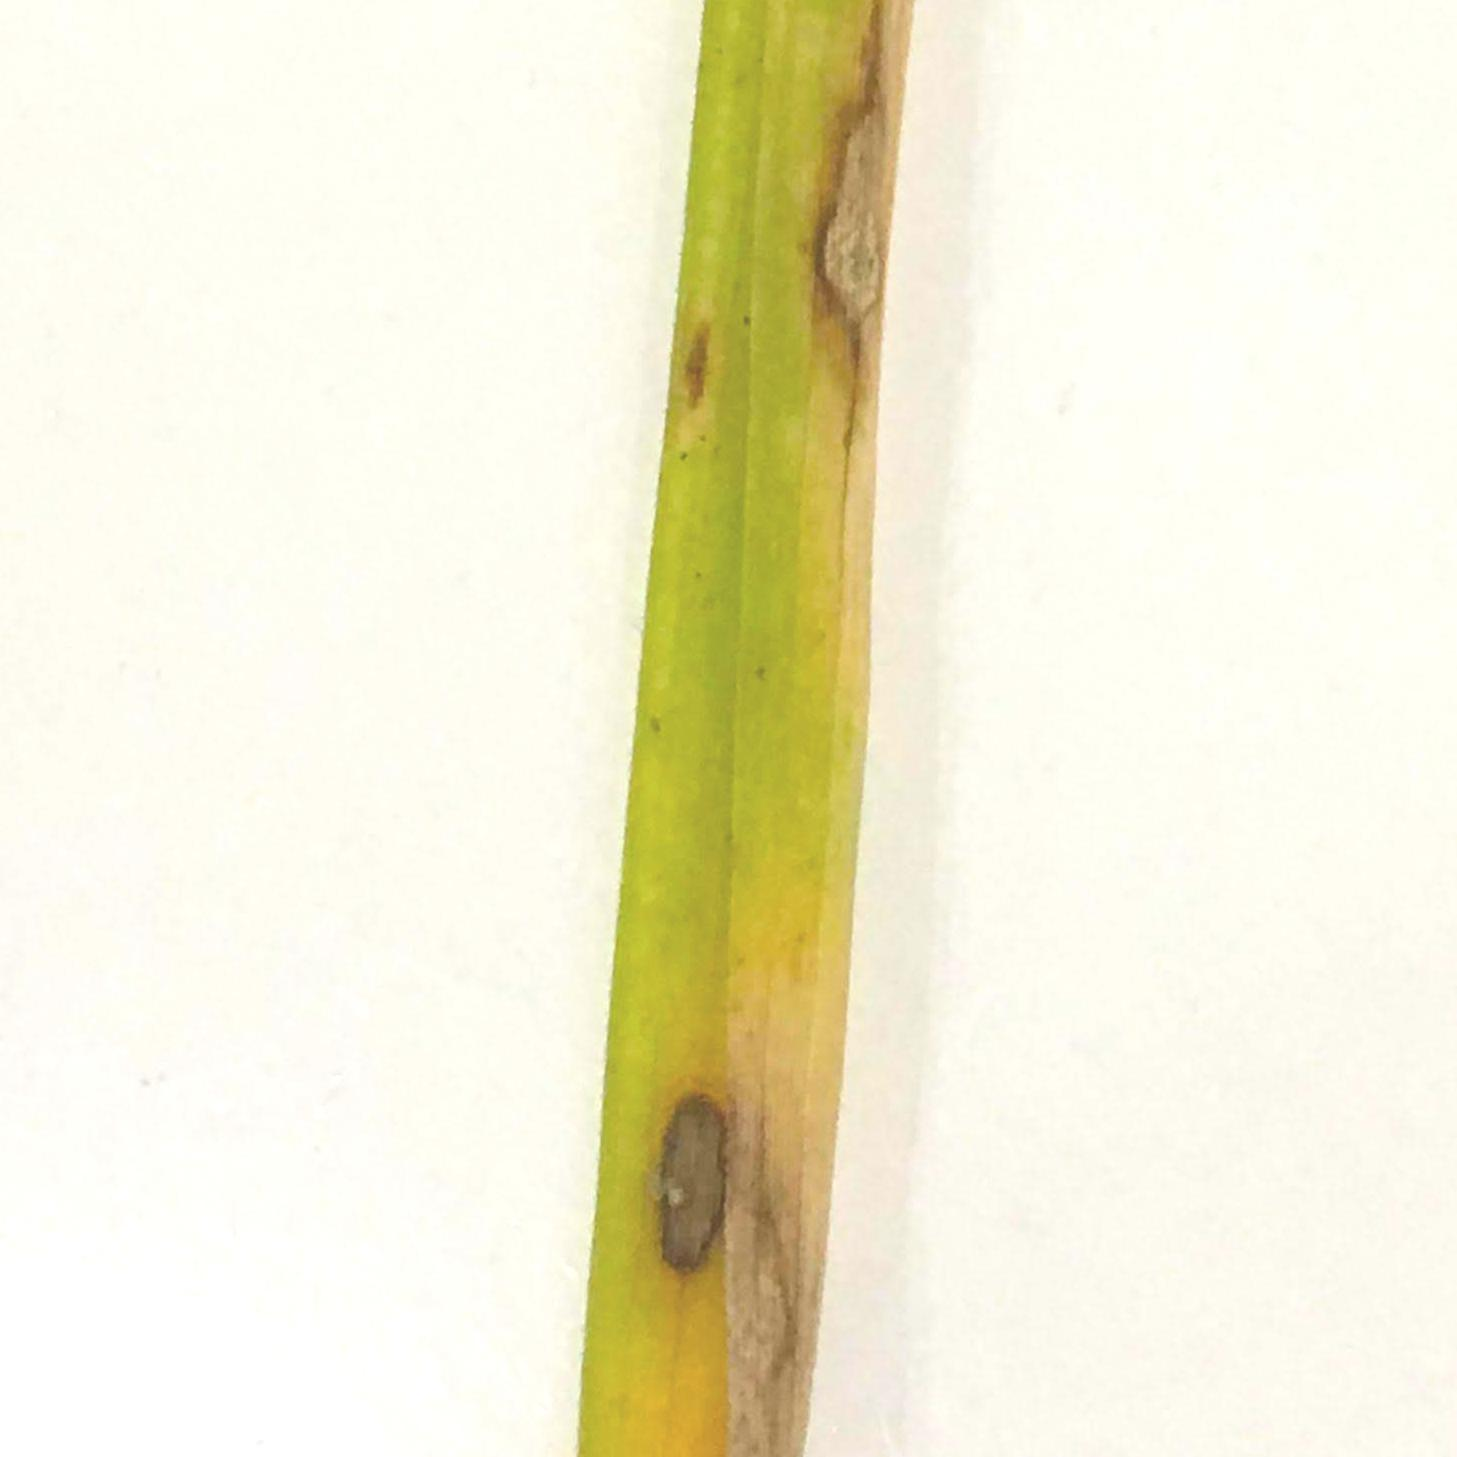1 RiceBlast: (623, 978, 797, 1334), (805, 17, 939, 443), (658, 295, 723, 422)
